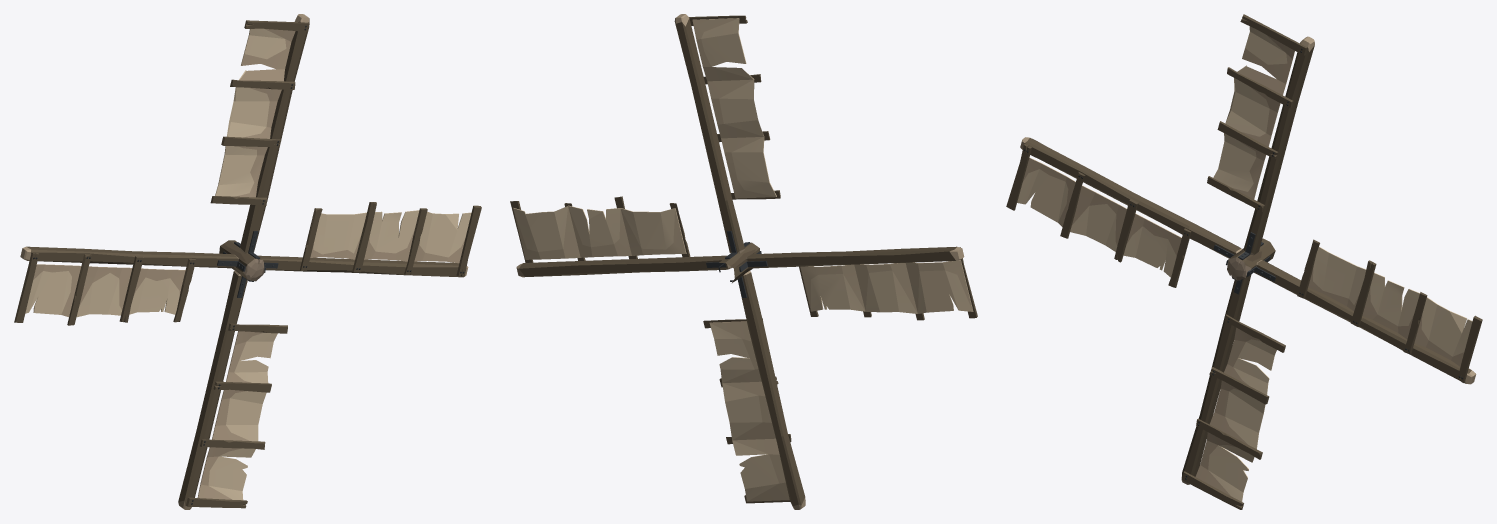
File: SM_Bld_Preset_House_Windmill_01_Blades_Optimized.glb
3 views of the same model, side by side, from view 1: azimuth 30°, elevation 25°; view 2: azimuth 150°, elevation 25°; view 3: azimuth 330°, elevation 25° (orthographic).
Visible parts, largest first — view 1: SM_Bld_Preset_House_Windmill_01_Blades_Optimized; view 2: SM_Bld_Preset_House_Windmill_01_Blades_Optimized; view 3: SM_Bld_Preset_House_Windmill_01_Blades_Optimized.
Part boxes in pixels (x1,y1,x2,y2): SM_Bld_Preset_House_Windmill_01_Blades_Optimized: [14, 14, 481, 509]; SM_Bld_Preset_House_Windmill_01_Blades_Optimized: [510, 14, 977, 509]; SM_Bld_Preset_House_Windmill_01_Blades_Optimized: [1006, 14, 1482, 509].
Bounding box in the file's own units: 13.46 × 13.43 × 1.38.
Materials: 1 (1 with a texture image).
